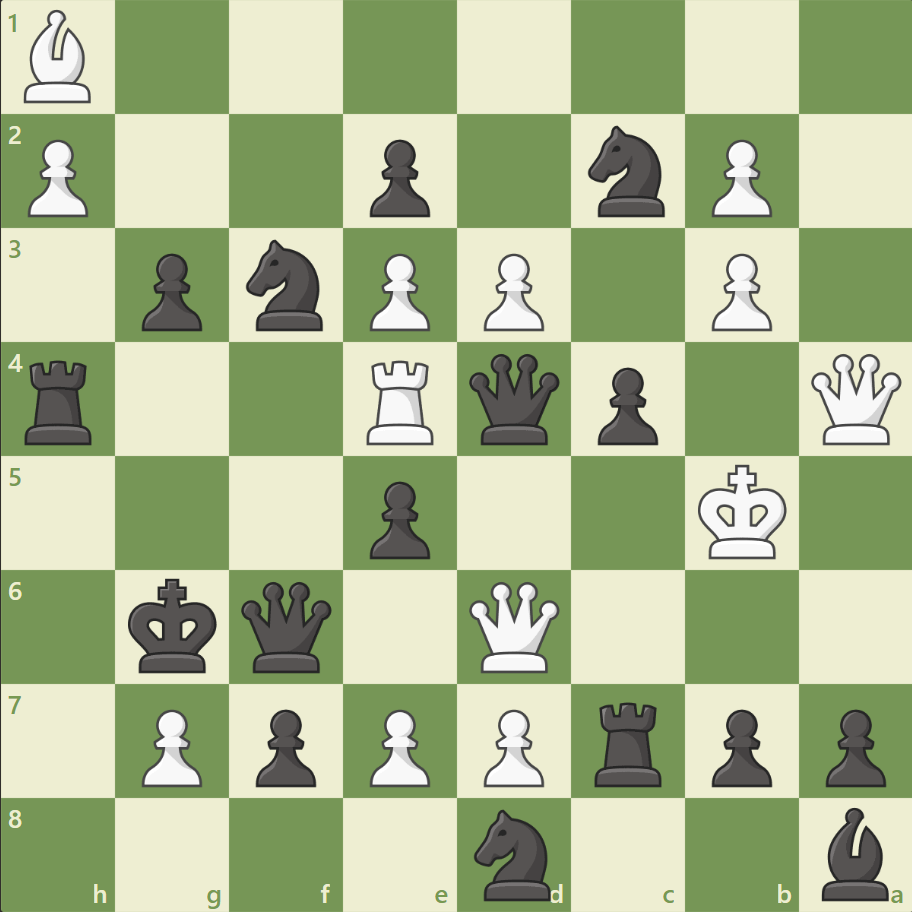B: (17, 6, 101, 109)
K: (692, 458, 792, 566)
P: (474, 700, 549, 791), (133, 700, 208, 791), (701, 246, 776, 337), (474, 246, 549, 337), (701, 132, 776, 223), (20, 132, 95, 223), (361, 700, 435, 791), (361, 246, 435, 337)
Q: (464, 576, 563, 676), (805, 349, 904, 449)
R: (360, 352, 442, 449)
b: (812, 801, 896, 904)
k: (124, 571, 224, 679)
n: (238, 234, 335, 337), (465, 802, 562, 904), (579, 121, 676, 223)
p: (701, 700, 776, 791), (247, 700, 322, 791), (133, 246, 208, 337), (815, 700, 889, 791), (361, 473, 435, 564), (588, 359, 662, 450), (361, 132, 435, 223)
q: (237, 576, 336, 676), (464, 349, 563, 449)
r: (587, 693, 670, 790), (19, 352, 102, 449)
